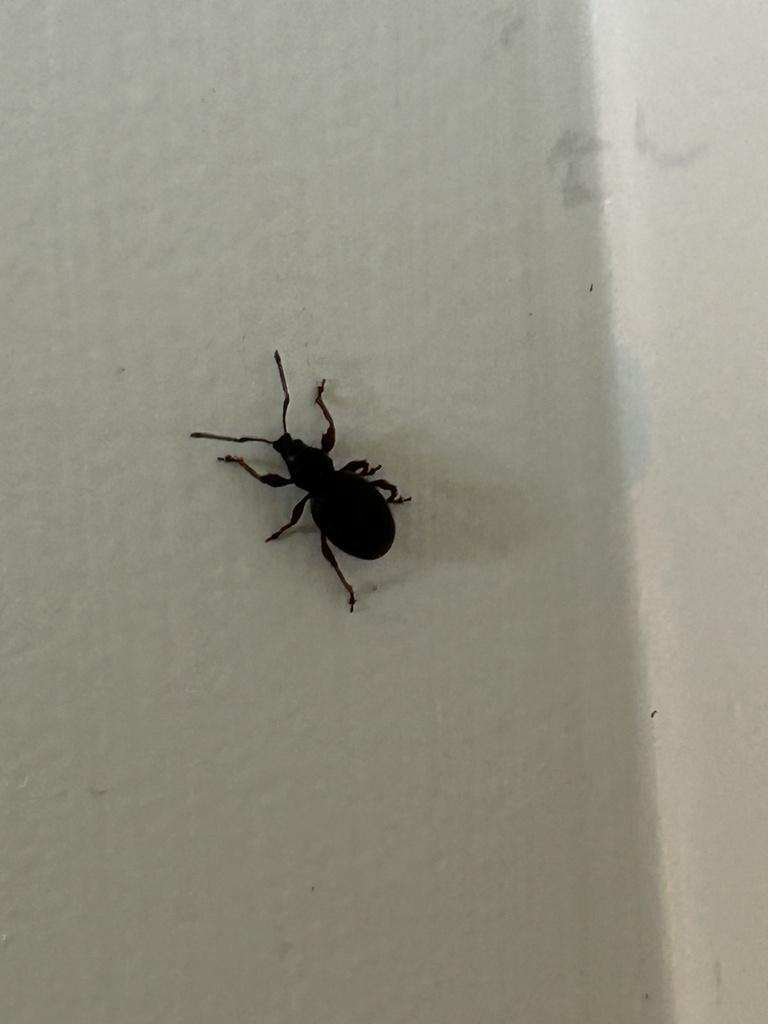weevils: (133, 276, 534, 689)
